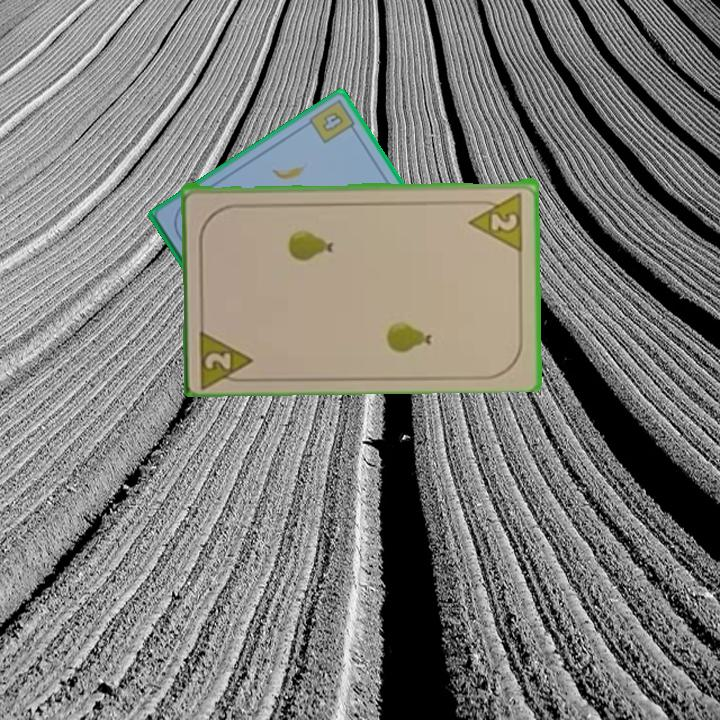2p: (196, 323, 258, 388), (466, 188, 526, 251)
4b: (305, 96, 360, 146)
